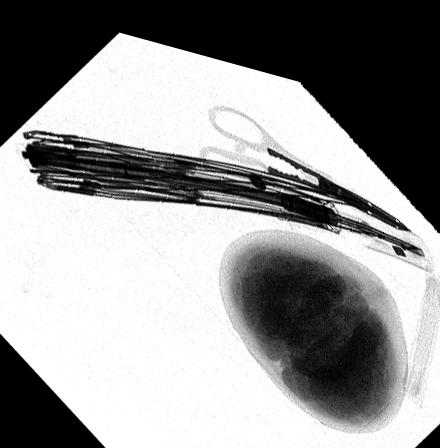Scissors: (192, 86, 418, 215)
